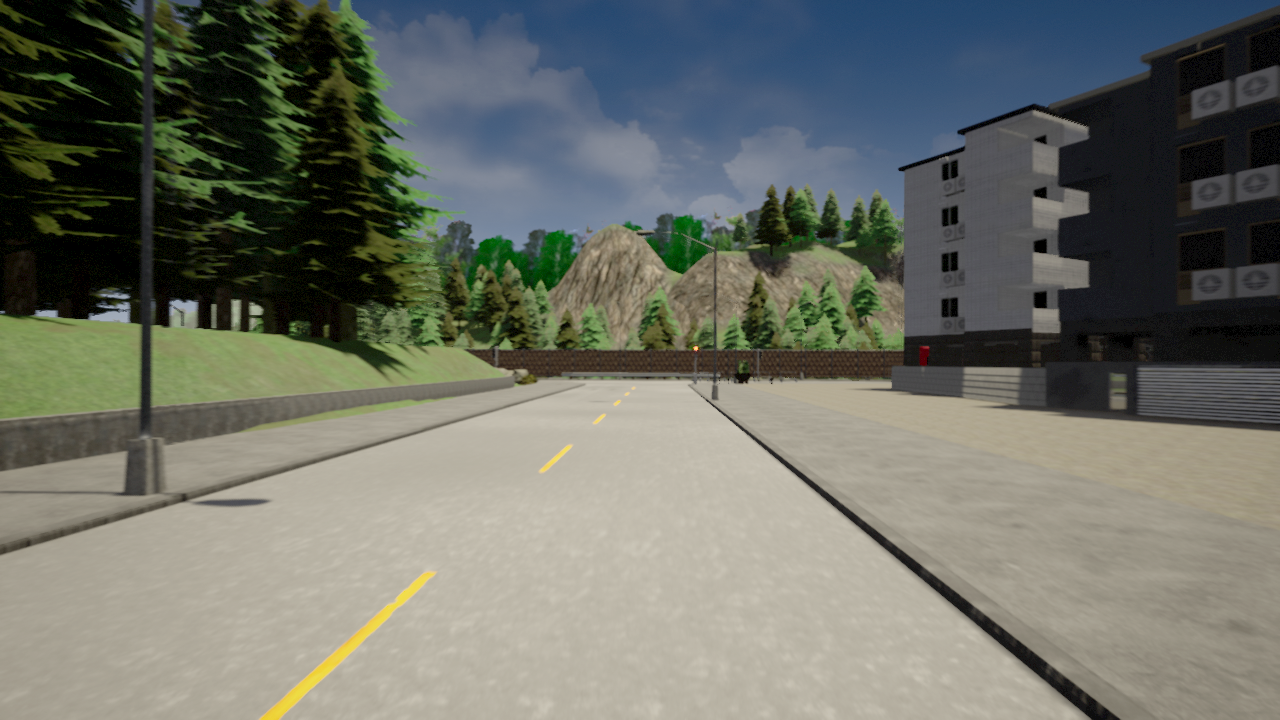red: (693, 345, 699, 360)
